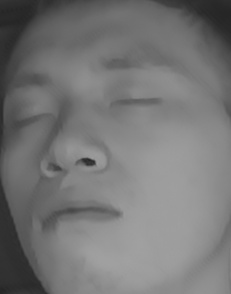blink: (114, 85, 169, 117), (12, 107, 58, 132)
mouth: (36, 187, 123, 244)
